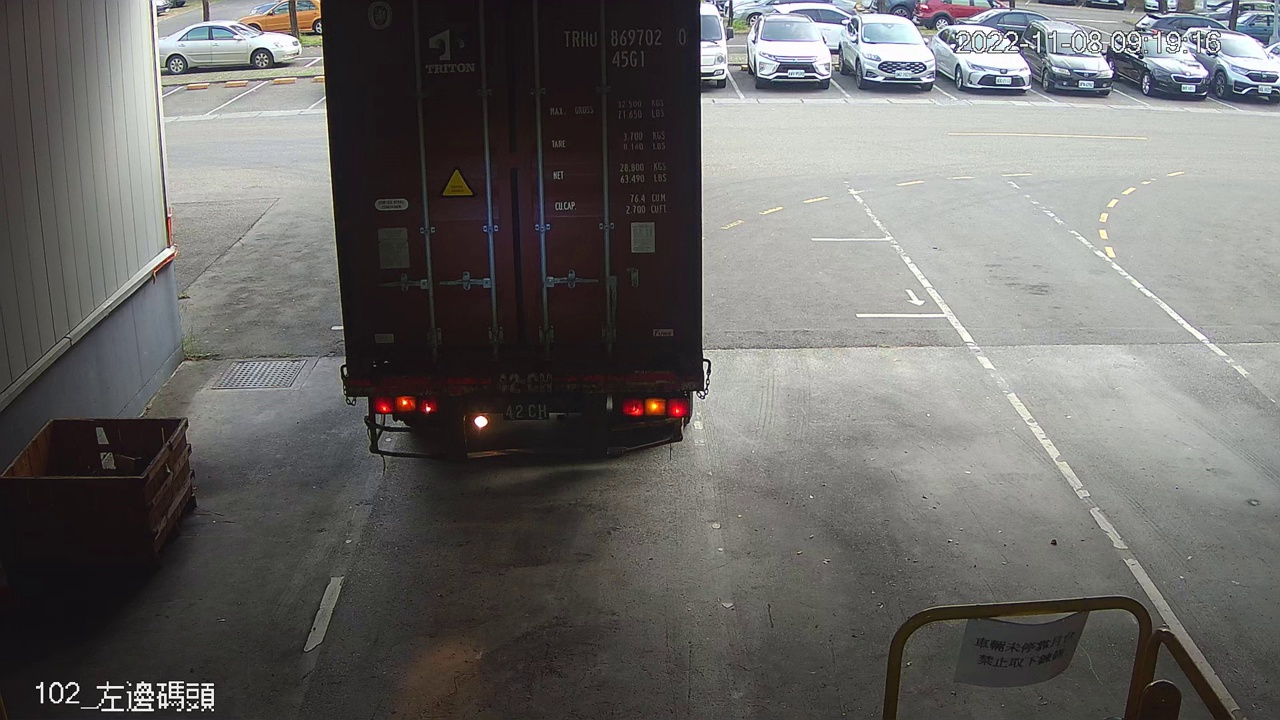container: (556, 21, 690, 72)
